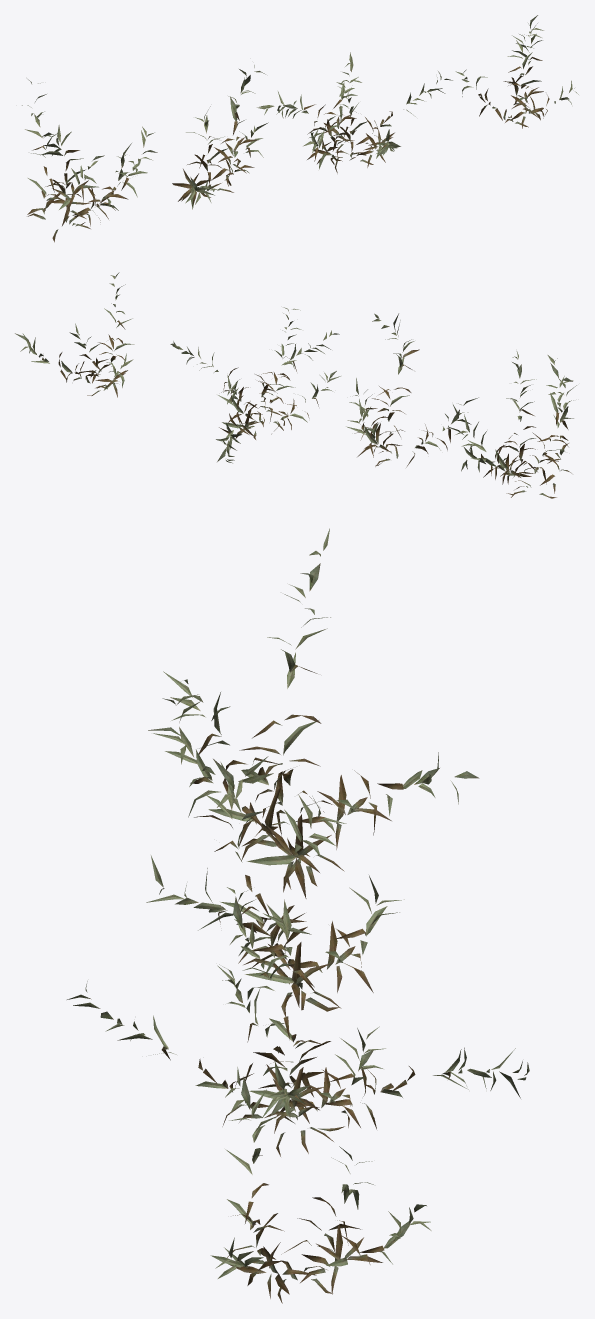
File: shrub_02.glb
3 views of the same model, one above another, from view 1: azimuth 30°, elevation 25°; view 2: azimuth 150°, elevation 25°; view 3: azimuth 270°, elevation 25° (orthographic). The views are drawn at different scales.
Visible parts, largest first — view 1: shrub_02_c, shrub_02_a, shrub_02_b, shrub_02_d; view 2: shrub_02_a, shrub_02_c, shrub_02_b, shrub_02_d; view 3: shrub_02_a, shrub_02_c, shrub_02_b, shrub_02_d.
Part boxes in pixels (bbox=[...]): shrub_02_c: bbox=[257, 52, 452, 173]; shrub_02_a: bbox=[22, 79, 157, 242]; shrub_02_b: bbox=[172, 65, 268, 209]; shrub_02_d: bbox=[455, 15, 578, 128]; shrub_02_a: bbox=[455, 351, 576, 498]; shrub_02_c: bbox=[170, 307, 340, 463]; shrub_02_b: bbox=[346, 313, 478, 467]; shrub_02_d: bbox=[15, 272, 134, 397]; shrub_02_a: bbox=[148, 528, 479, 898]; shrub_02_c: bbox=[67, 887, 529, 1156]; shrub_02_b: bbox=[146, 756, 404, 1016]; shrub_02_d: bbox=[210, 1067, 431, 1303].
Size of the model in its own units: 6.05 by 1.7 by 2.28.
1 material, 1 textured.
